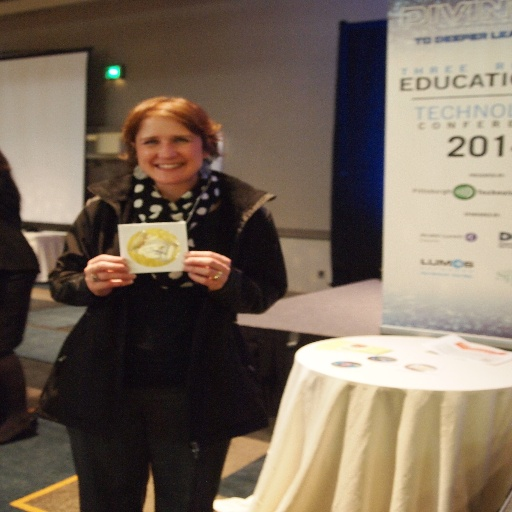hand: (68, 252, 131, 296), (179, 248, 232, 292)
